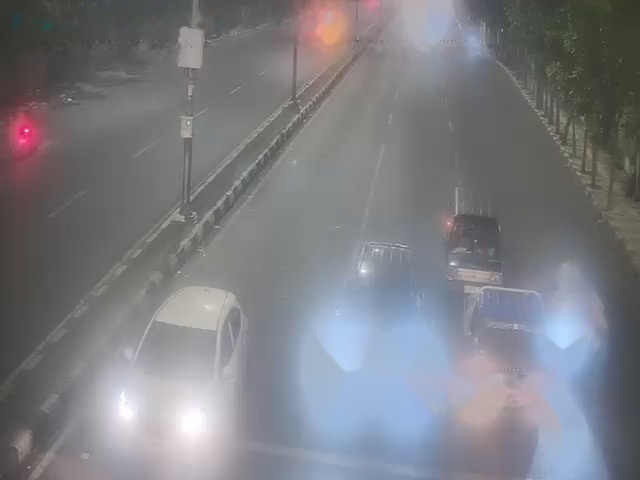Mobil: (120, 274, 239, 447), (451, 282, 548, 426), (332, 233, 420, 378), (446, 215, 510, 287)
Motor: (15, 127, 33, 155)
